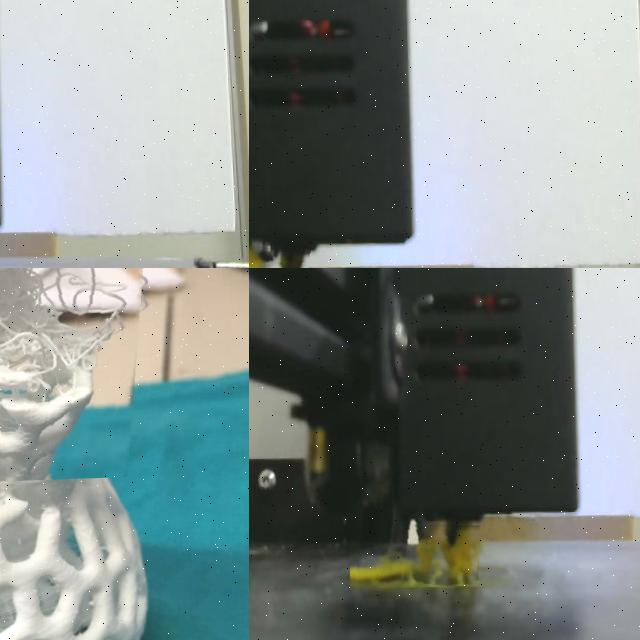spaghetti: (349, 524, 479, 588)
